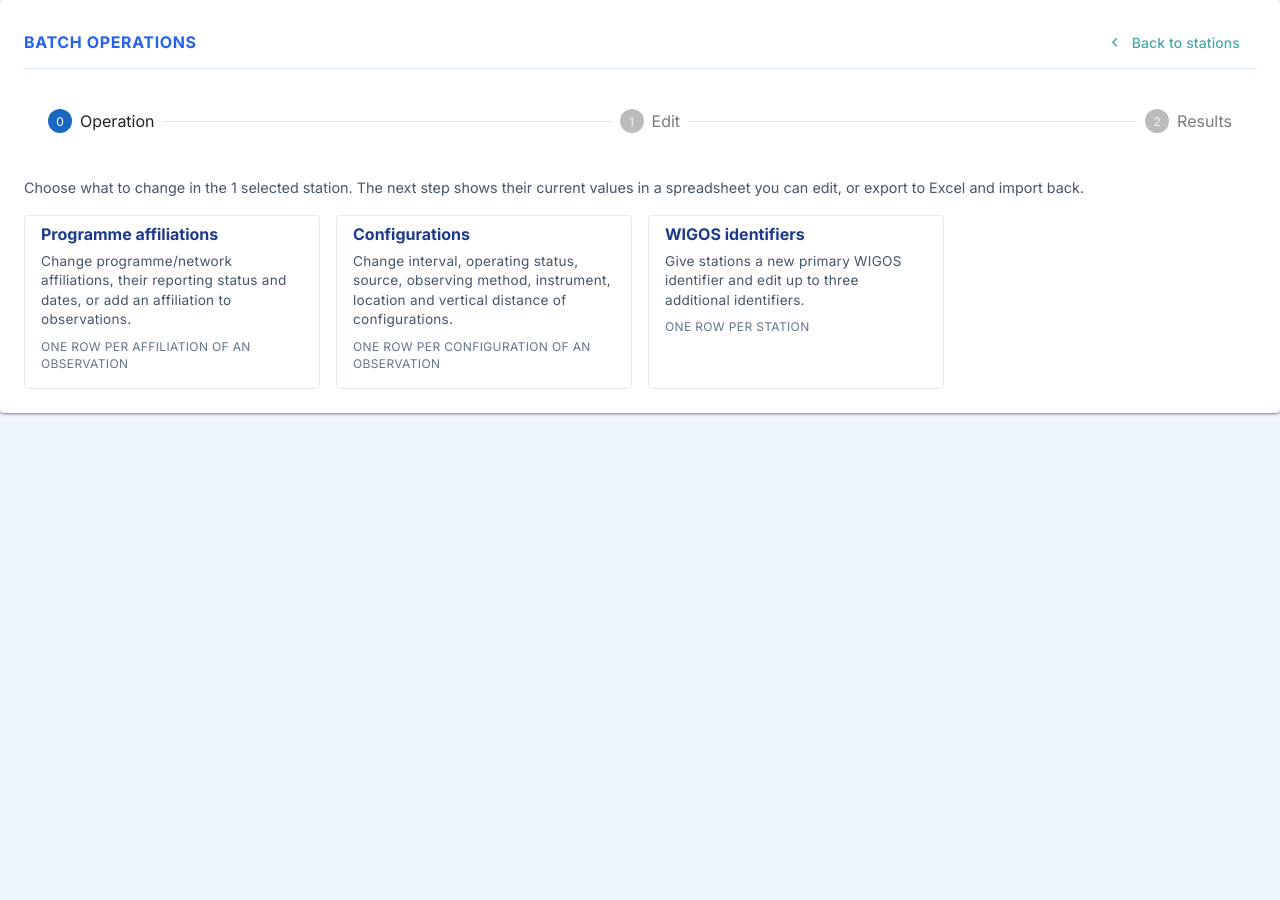
Scenario: BatchWizard › edits WIGOS identifiers, previews with a dry run and applies
This screenshot has width=1280, height=900.
Click the element with class "operation-card" that starts with "WIGOS identifiers". click: (796, 302)
box: [648, 215, 944, 389]
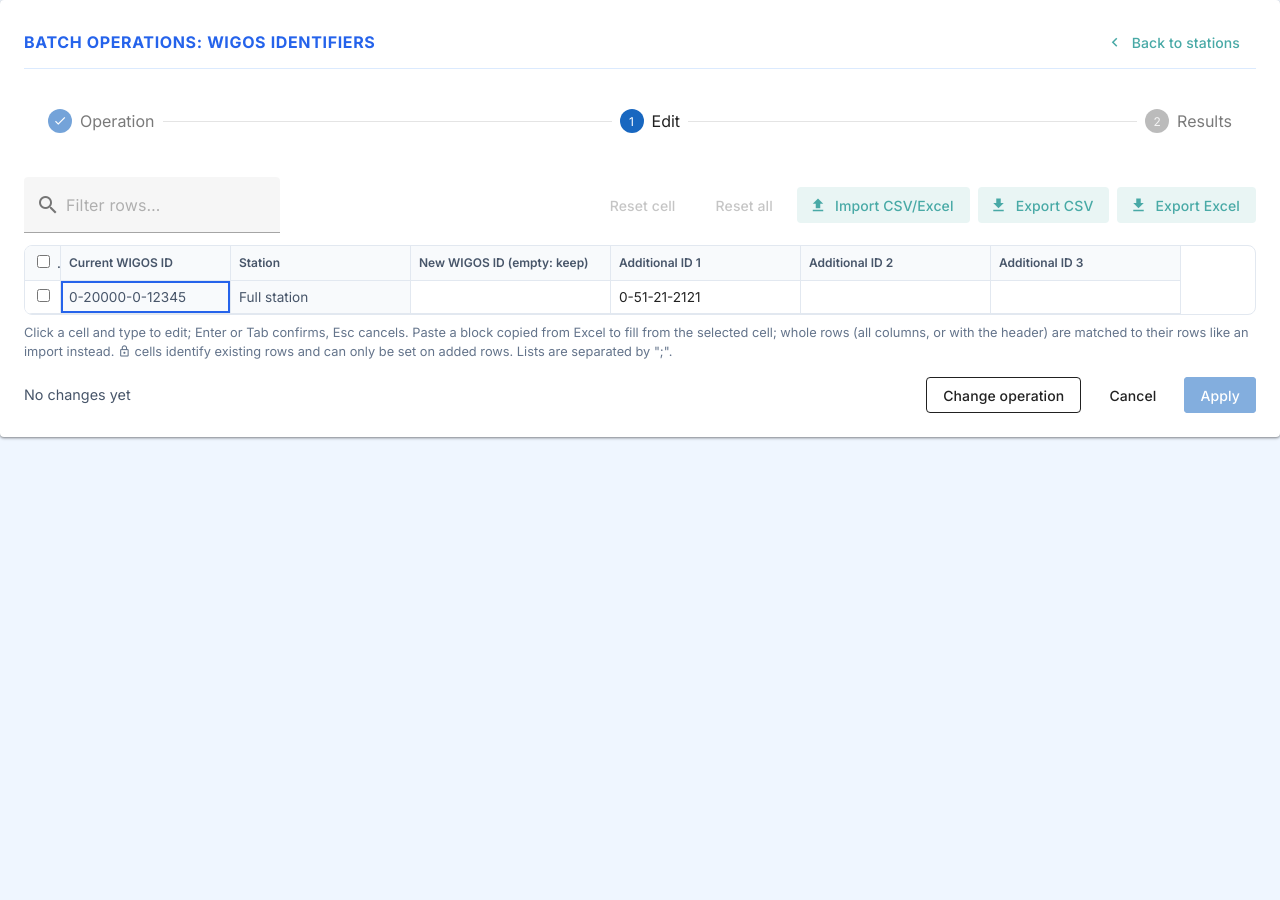
Expected: the cell "0-20000-0-12345" is shown, [61, 281, 231, 314]
Expected: the button "Apply" is disabled, [1184, 377, 1256, 413]
Press the mouse on the 6th cell at (896, 297), box [801, 281, 991, 314]
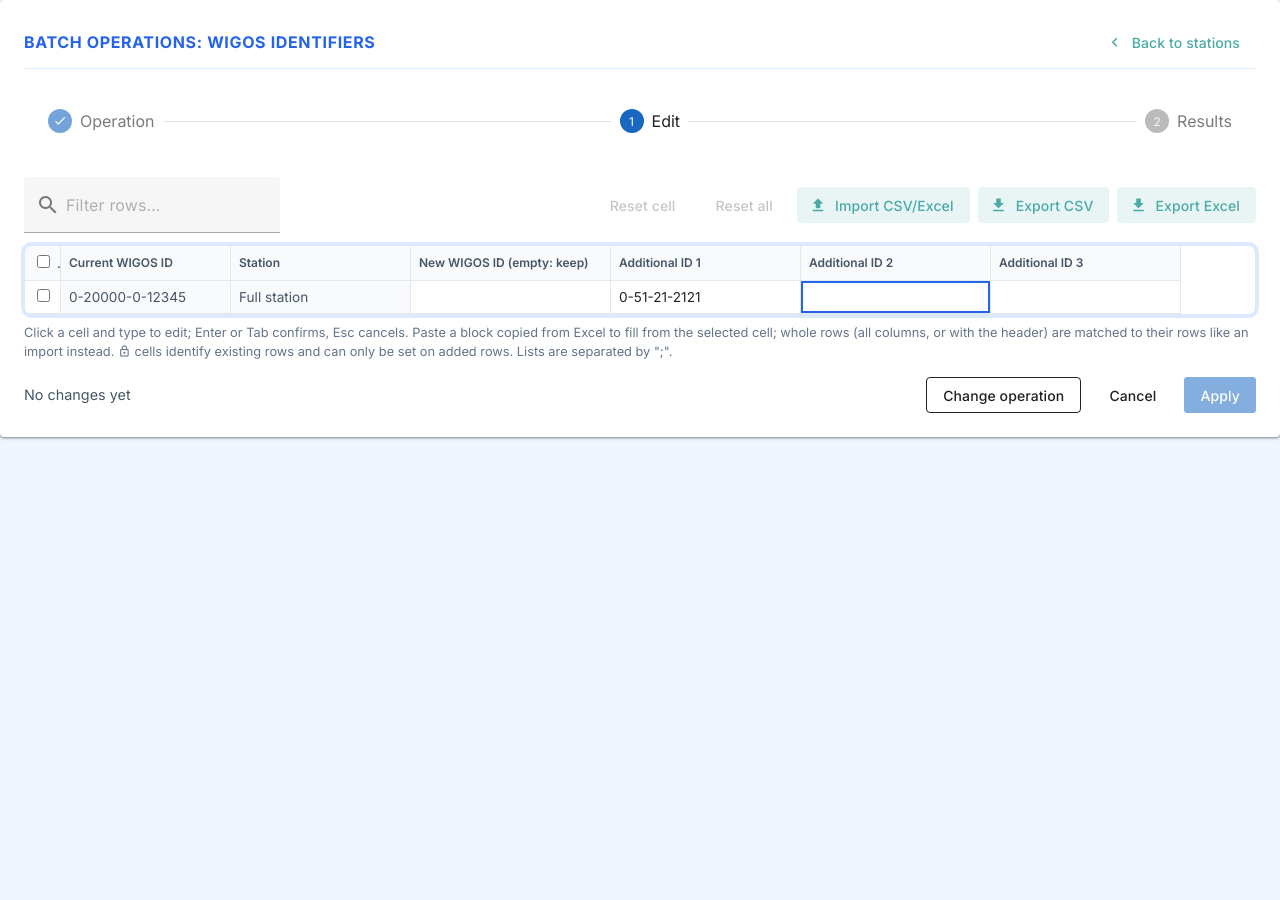
Press Enter in the table with class "sheet-scroll", box [24, 245, 1256, 315]
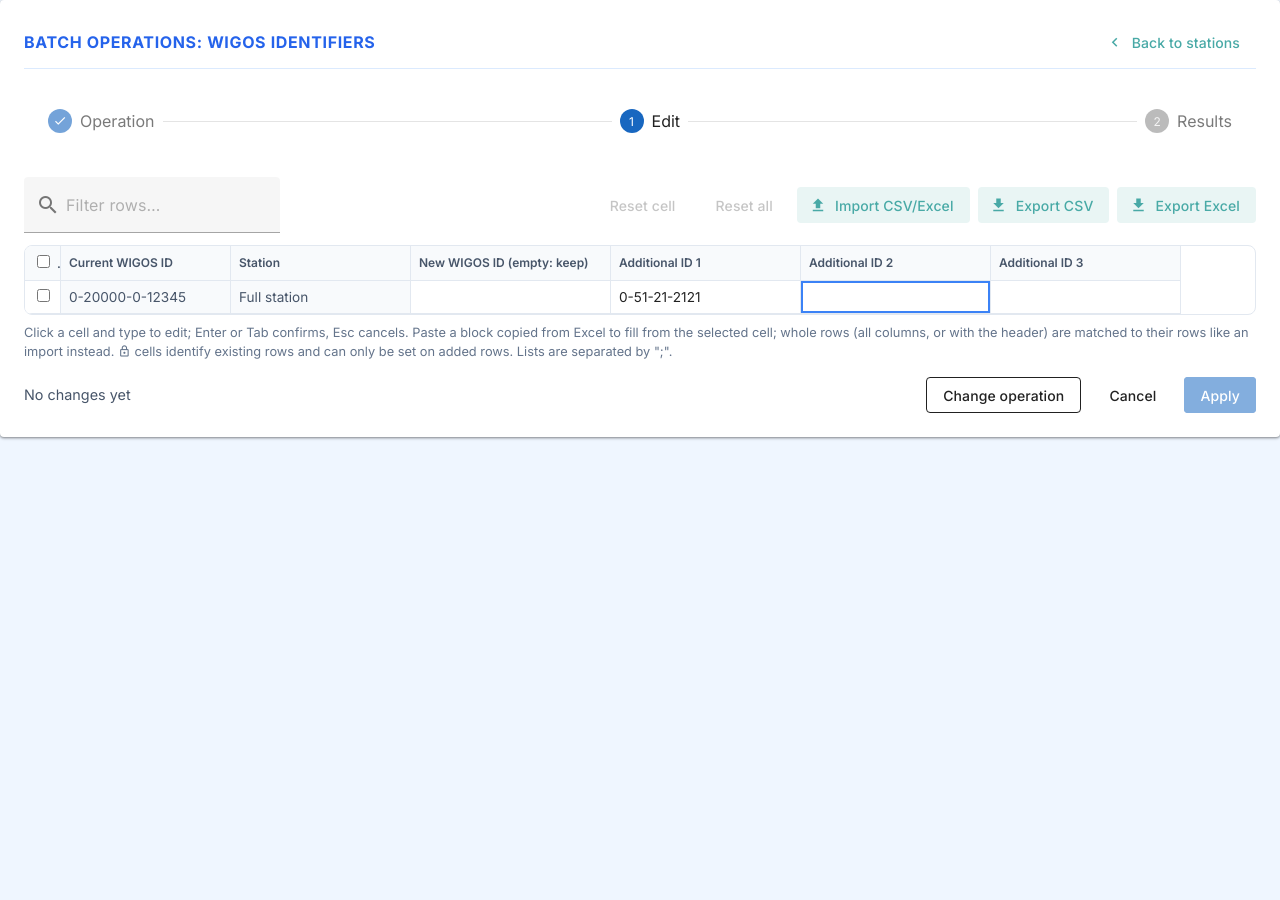
Type "0-20000-0-99999" into the field with class "sheet-editor". click: (896, 297)
box: [801, 281, 990, 313]
Press Enter in the field with class "sheet-editor", box [801, 281, 990, 313]
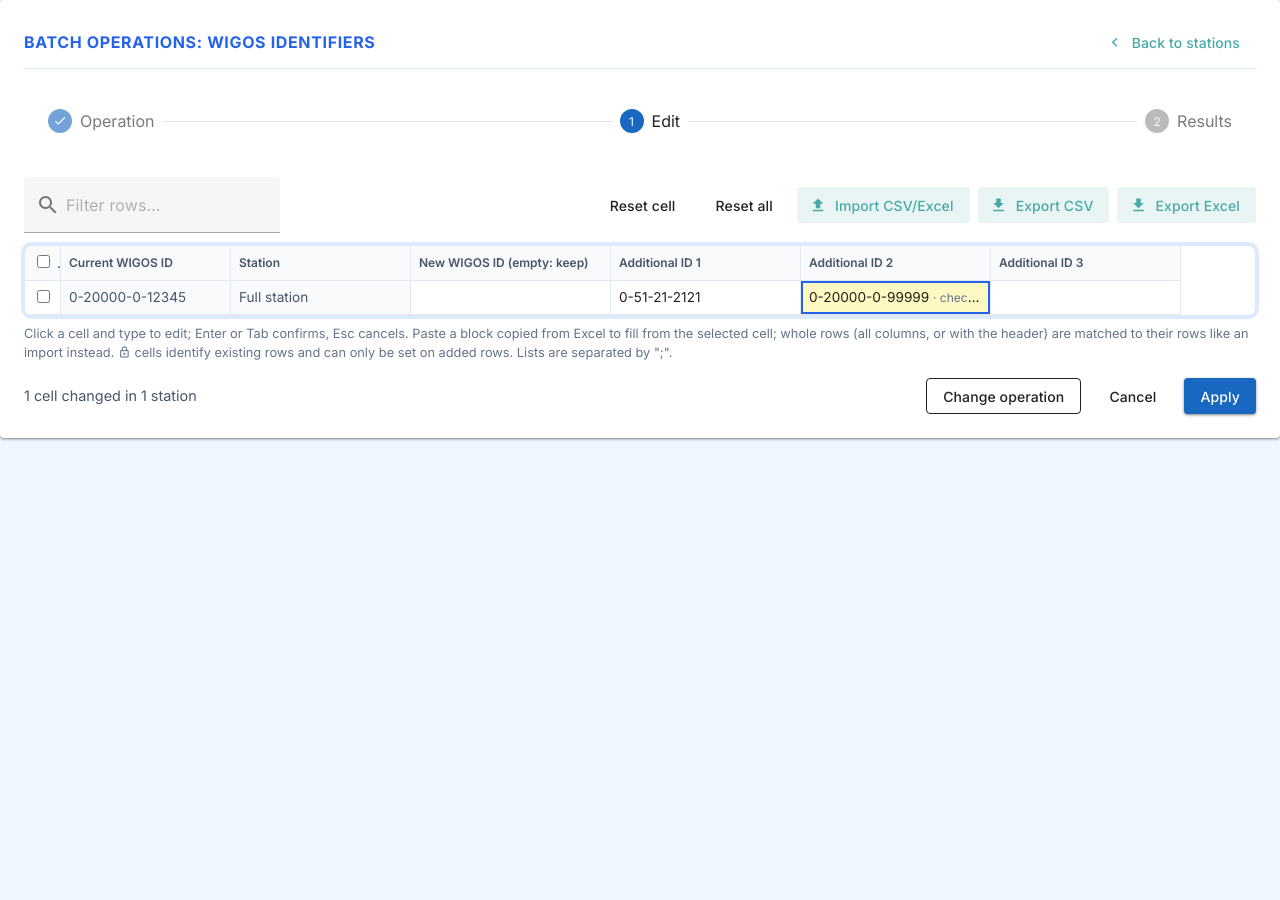
Expected: the text "1 cell changed in 1 station" is shown, [24, 385, 197, 407]
Click the button "Apply". click: (1220, 396)
box: [1184, 378, 1256, 414]
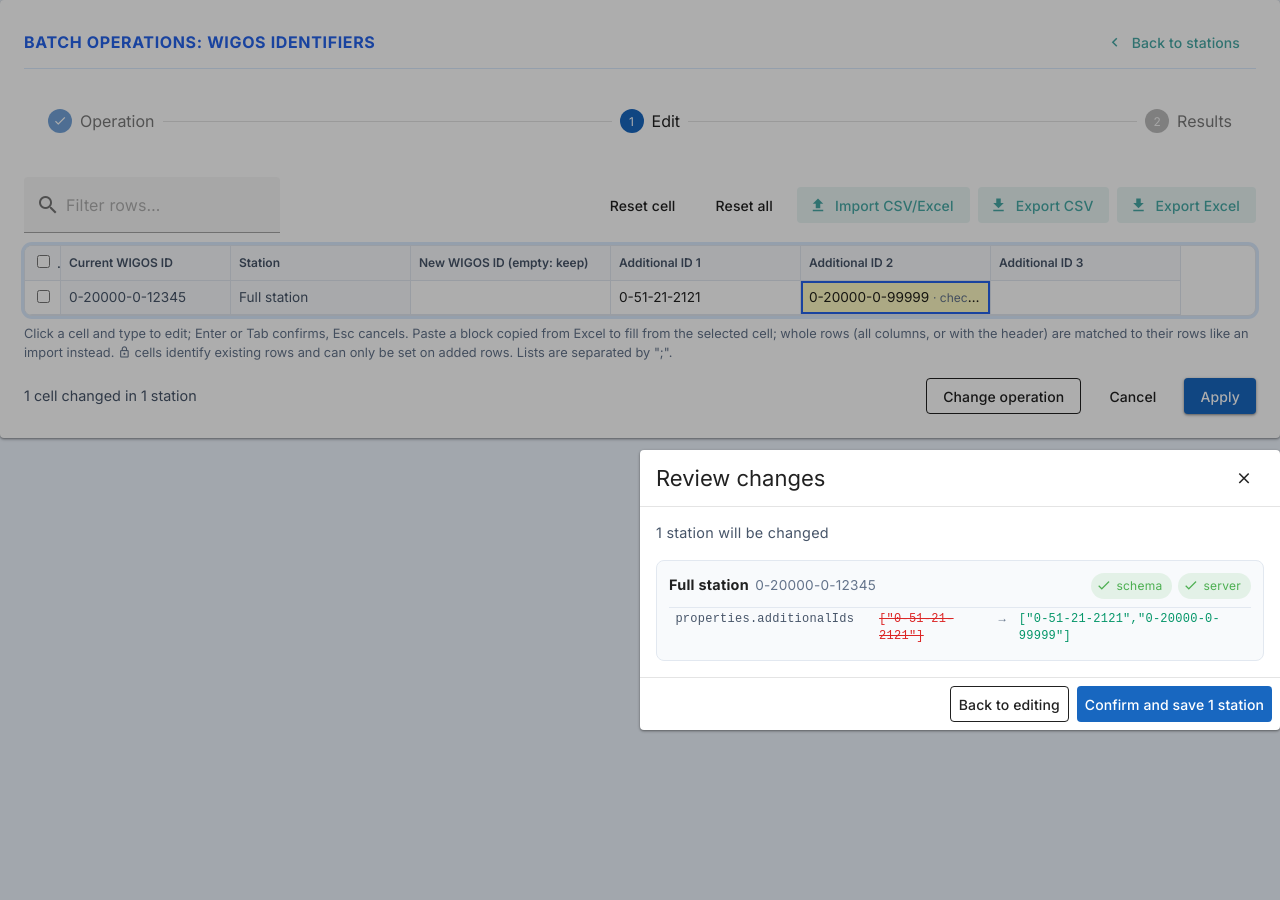
Expected: the button "Confirm and save 1 station" is enabled
Click the button "Confirm and save 1 station". click: (1174, 704)
box: [1077, 686, 1272, 722]
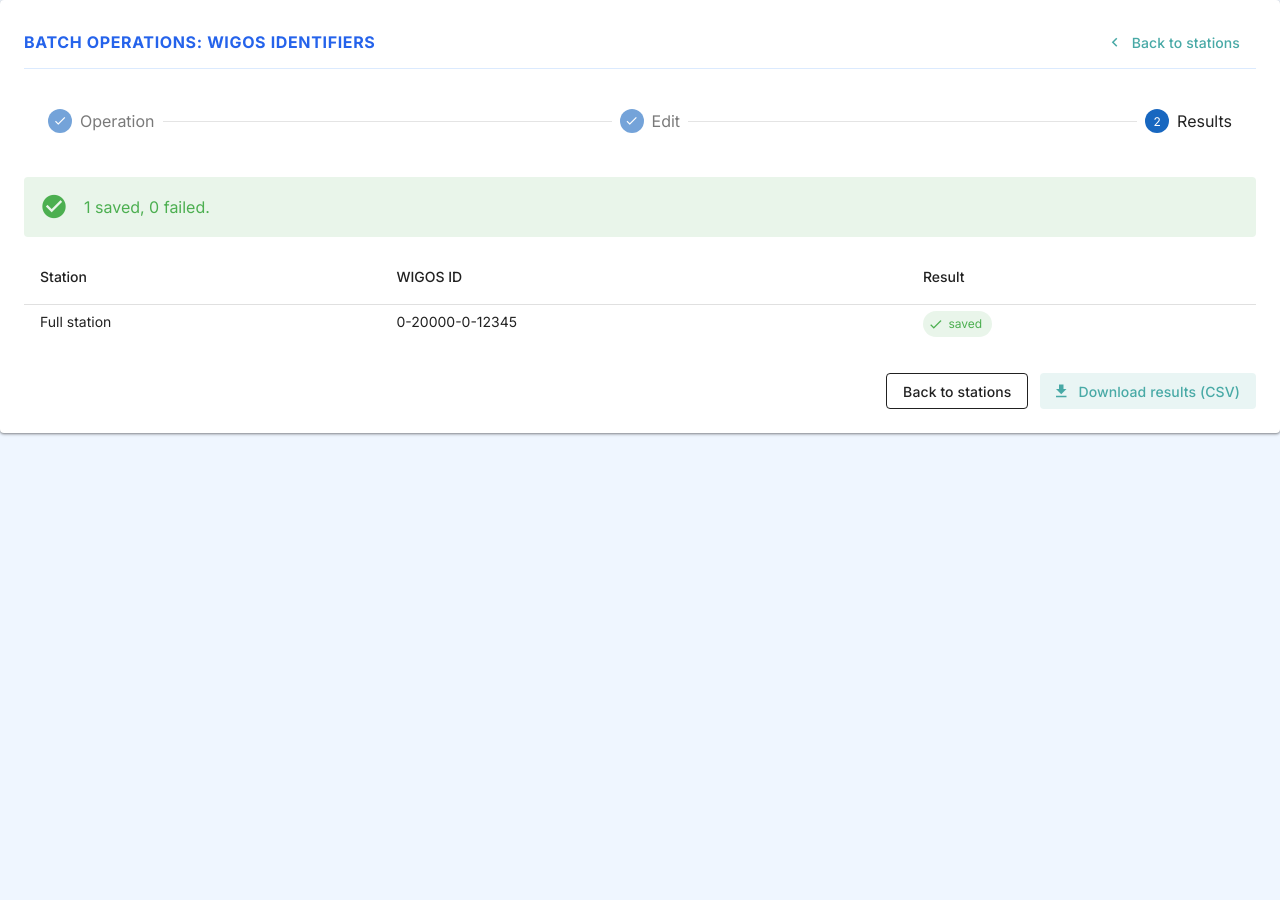
Expected: the text "1 saved, 0 failed." is shown, [84, 197, 210, 217]
